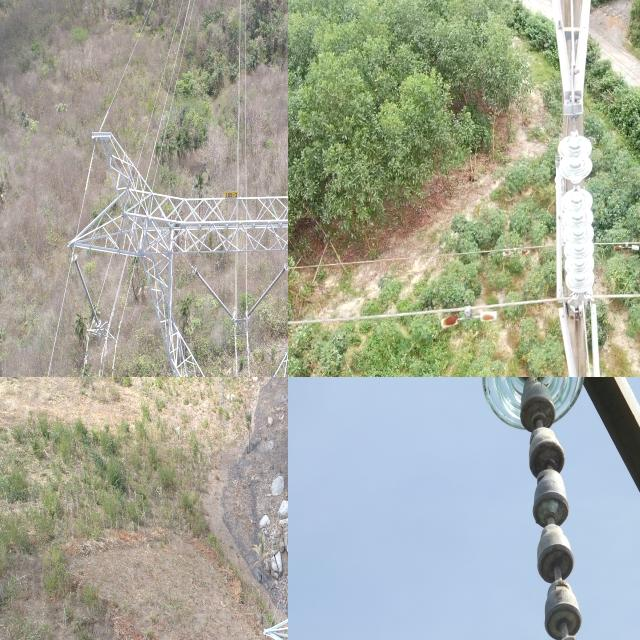杆塔: (64, 110, 288, 377)
正常电缆: (288, 237, 552, 276), (288, 291, 551, 330)
正常绝缘子: (474, 377, 594, 640), (555, 117, 600, 313), (190, 259, 239, 329), (70, 246, 101, 330), (244, 263, 288, 320)
绝缘子破损: (537, 542, 574, 596), (532, 488, 570, 540), (521, 392, 556, 438), (529, 444, 567, 486), (545, 601, 578, 640), (570, 180, 582, 193)
